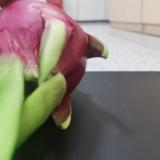pitaya: (1, 1, 109, 159)
